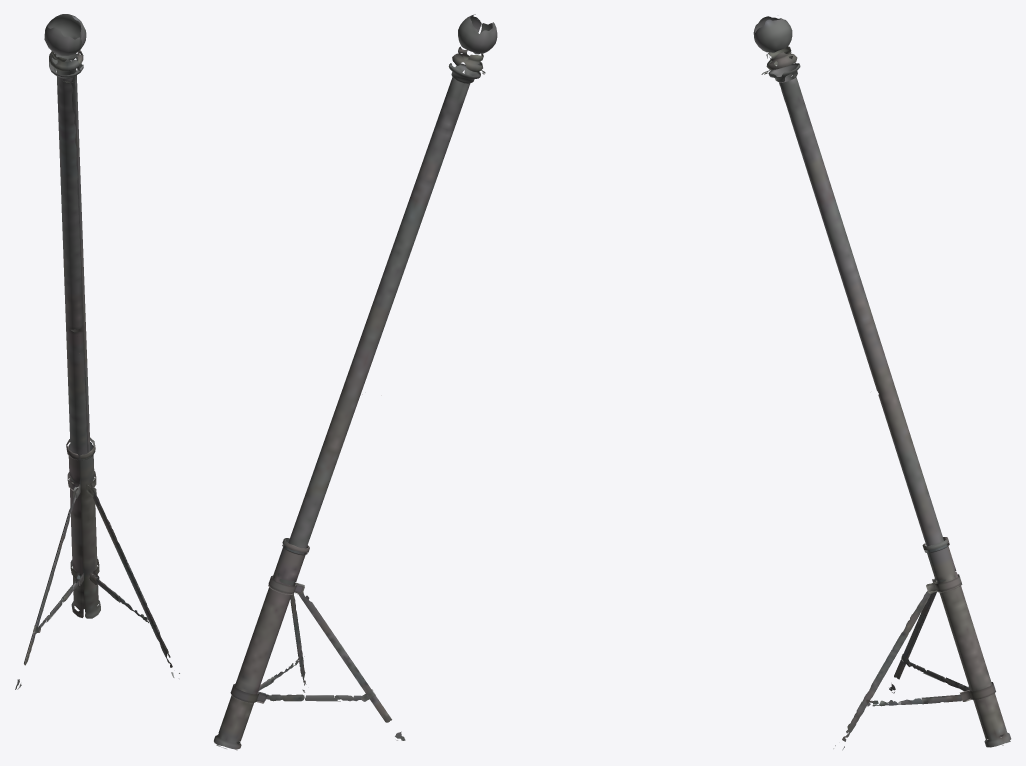
File: sm21_021_flag01a.fbx
3 renders of one model, left to right at view 1: azimuth 30°, elevation 25°; view 2: azimuth 150°, elevation 25°; view 3: azimuth 270°, elevation 25°, orthographic. The views are drawn at different scales.
Visible parts, largest first — view 1: LOD_1_Group_0_Sub_1__sm21_021_Flag01A_A_Mat, LOD_1_Group_1_Sub_1__sm21_021_Flag01A_A_Mat; view 2: LOD_1_Group_0_Sub_1__sm21_021_Flag01A_A_Mat, LOD_1_Group_1_Sub_1__sm21_021_Flag01A_A_Mat; view 3: LOD_1_Group_0_Sub_1__sm21_021_Flag01A_A_Mat, LOD_1_Group_1_Sub_1__sm21_021_Flag01A_A_Mat.
Part boxes in pixels (x1=…): LOD_1_Group_0_Sub_1__sm21_021_Flag01A_A_Mat: x1=44, y1=14, x2=100, y2=618; LOD_1_Group_1_Sub_1__sm21_021_Flag01A_A_Mat: x1=15, y1=471, x2=179, y2=689; LOD_1_Group_0_Sub_1__sm21_021_Flag01A_A_Mat: x1=213, y1=14, x2=497, y2=750; LOD_1_Group_1_Sub_1__sm21_021_Flag01A_A_Mat: x1=230, y1=575, x2=405, y2=740; LOD_1_Group_0_Sub_1__sm21_021_Flag01A_A_Mat: x1=753, y1=16, x2=1011, y2=747; LOD_1_Group_1_Sub_1__sm21_021_Flag01A_A_Mat: x1=833, y1=574, x2=995, y2=750.
Size of the model in its own units: 69.53 by 272 by 153.
